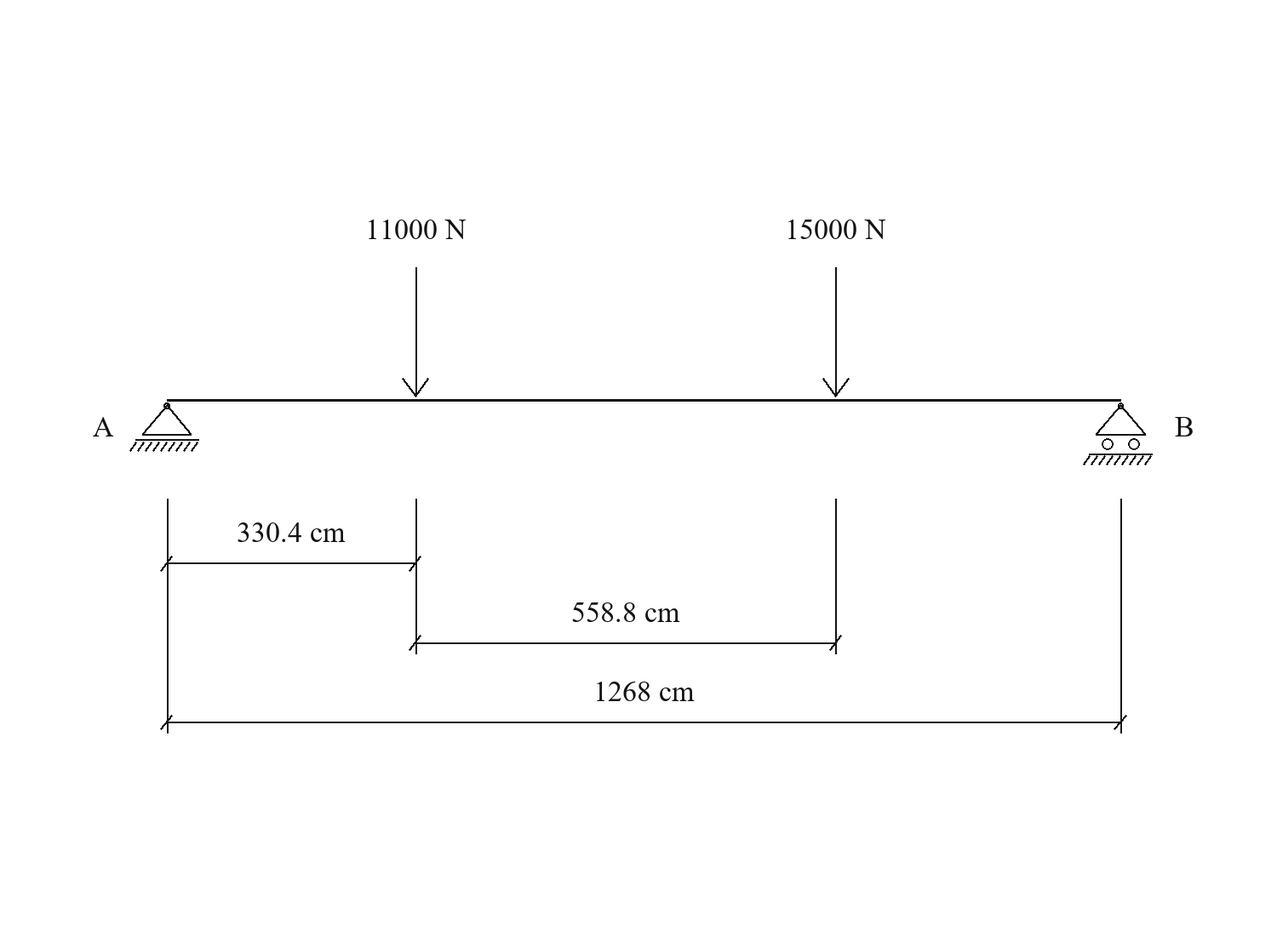pin_support: (129, 402, 199, 452)
point_load: (822, 267, 850, 397), (402, 267, 429, 397)
roller_support: (1083, 402, 1153, 465)
